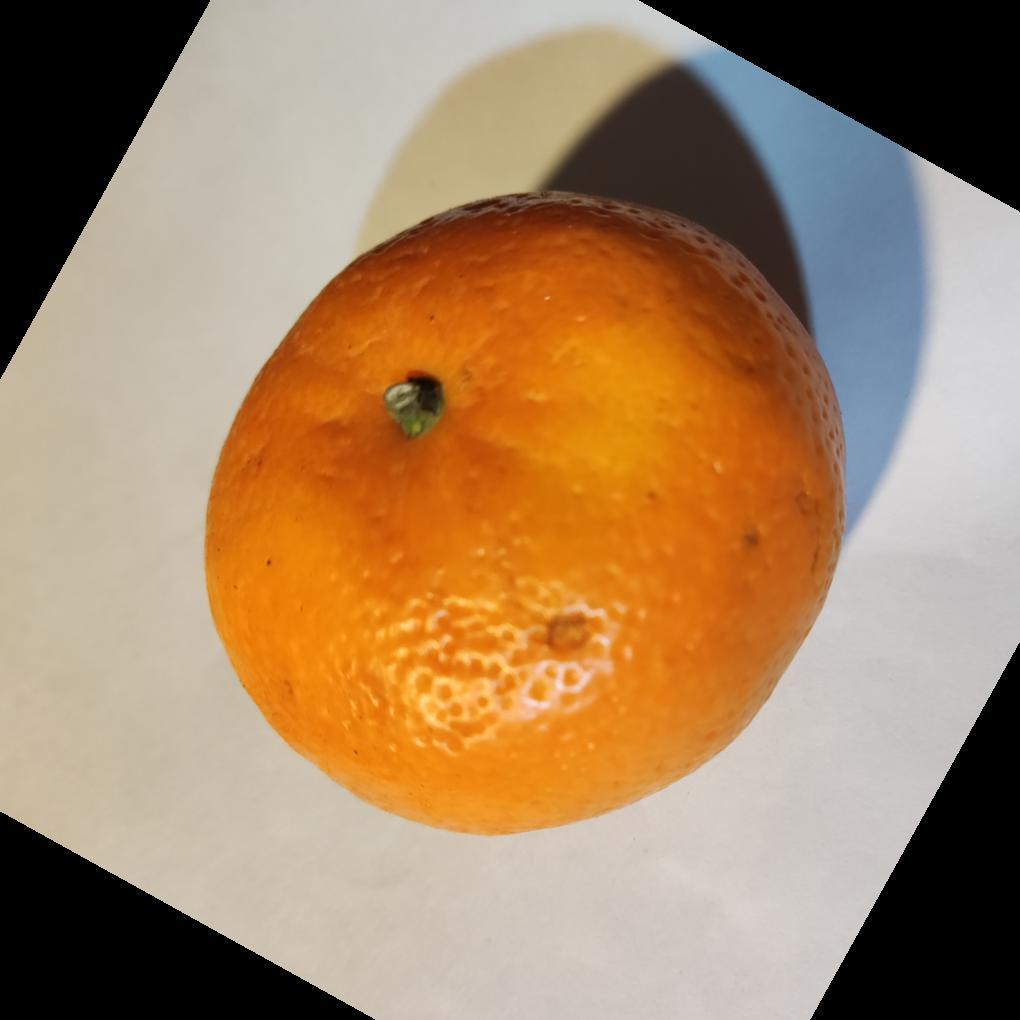FreshGuava: (201, 192, 847, 841)
